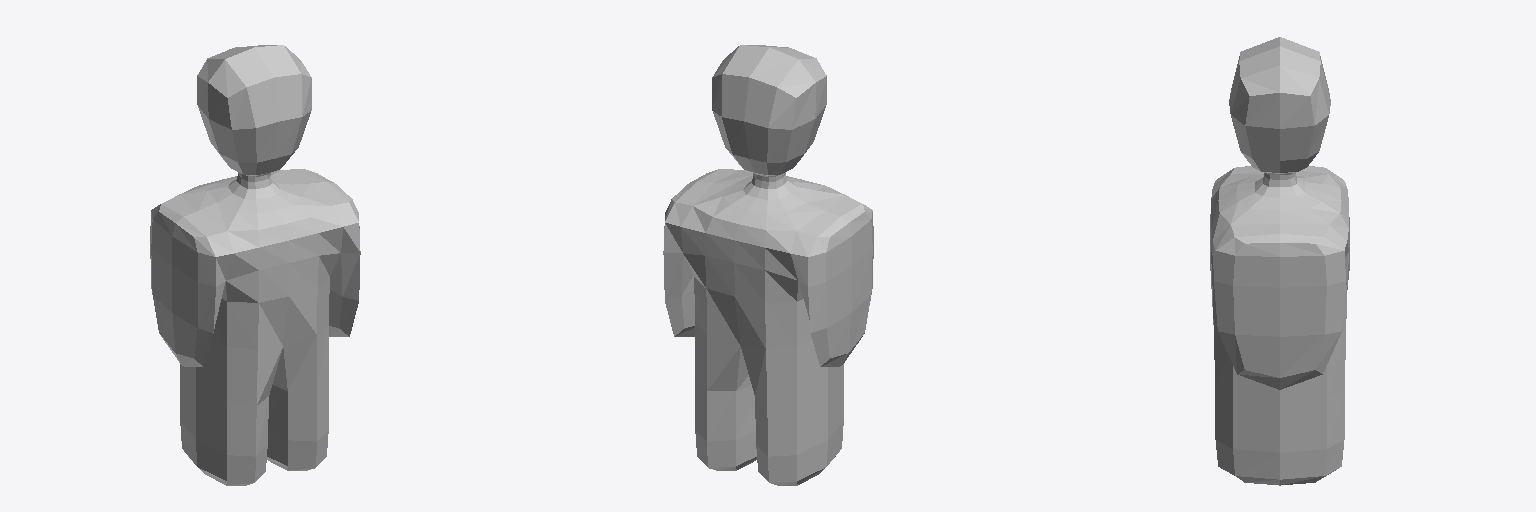
File: humanbod.obj
3 views of the same model, side by side, from view 1: azimuth 30°, elevation 25°; view 2: azimuth 150°, elevation 25°; view 3: azimuth 270°, elevation 25° (orthographic).
Visible parts, largest first — view 1: Cube.001; view 2: Cube.001; view 3: Cube.001.
Boxes of the visible parts, x1,y1,x2,y2 form: Cube.001: [150, 45, 360, 485]; Cube.001: [663, 45, 873, 485]; Cube.001: [1210, 37, 1349, 485].
Bounding box in the file's own units: 2.75 × 6.55 × 2.